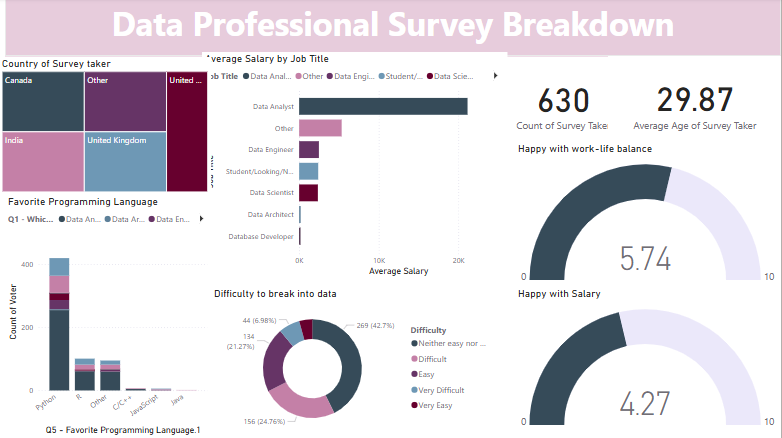

Layout of this report page (visuals, bound fields, positions):
{"tool":"powerbi","page":{"name":"Dashboard","canvas":[1280,720],"ordinal":0},"visuals":[{"type":"textbox","box":[10.1,0,1269.9,95.7],"z":0},{"type":"card","fields":{"Values":["CountNonNull(Data Professional Survey.Unique ID)"]},"box":[801.7,96.6,243.1,148.3],"z":1000},{"type":"card","fields":{"Values":["Avg(Data Professional Survey.Q10 - Current Age)"]},"box":[996.1,95.7,283.9,149.5],"z":2000},{"type":"barChart","title":" Average Salary by Job Title","fields":{"Category":["Data Professional Survey.Q1 - Which Title Best Fits your Current Role?.1"],"Y":["Sum(Data Professional Survey.Average Salary)"],"Series":["Data Professional Survey.Q1 - Which Title Best Fits your Current Role?.1"]},"box":[332.8,87.9,500,372.4],"z":3000},{"type":"columnChart","title":"Favorite Programming Language","fields":{"Category":["Data Professional Survey.Q5 - Favorite Programming Language.1"],"Y":["CountNonNull(Data Professional Survey.Unique ID)"],"Series":["Data Professional Survey.Q1 - Which Title Best Fits your Current Role?.1"]},"box":[10.3,322.4,336.2,398.3],"z":4000},{"type":"treemap","title":"Country of Survey taker","fields":{"Group":["Data Professional Survey.Q11 - Which Country do you live in?.1"],"Values":["Count(Data Professional Survey.Q11 - Which Country do you live in?.1)"]},"box":[0,96.6,346.6,225.9],"z":5000},{"type":"gauge","title":"Happy with work-life balance ","fields":{"MinValue":["Min(Data Professional Survey.Q6 - How Happy are you in your Current Position with the following? (Work/Life Balance))"],"MaxValue":["Max(Data Professional Survey.Q6 - How Happy are you in your Current Position with the following? (Work/Life Balance))"],"Y":["Avg(Data Professional Survey.Q6 - How Happy are you in your Current Position with the following? (Work/Life Balance))"]},"box":[844.8,236.2,434.5,248.3],"z":6000},{"type":"gauge","title":"Happy with Salary","fields":{"Y":["Avg(Data Professional Survey.Q6 - How Happy are you in your Current Position with the following? (Salary))"],"MinValue":["Min(Data Professional Survey.Q6 - How Happy are you in your Current Position with the following? (Salary))1"],"MaxValue":["Max(Data Professional Survey.Q6 - How Happy are you in your Current Position with the following? (Salary))2"]},"box":[844.8,472.4,434.5,248.3],"z":7000},{"type":"donutChart","title":"Difficulty to break into data","fields":{"Category":["Data Professional Survey.Q7 - How difficult was it for you to break into Data?"],"Y":["CountNonNull(Data Professional Survey.Q7 - How difficult was it for you to break into Data?)"]},"box":[346.6,472.4,470.7,248.3],"z":8000}]}

Visuals, with their boxes in screenshot pixels (x1, y1, x2, y2), scaled from the page's 1280x720 canvas onto the 782x438 screenshot:
textbox: bbox=[6, 0, 781, 58]
card - CountNonNull(Data Professional Survey.Unique ID): bbox=[490, 59, 638, 149]
card - Avg(Data Professional Survey.Q10 - Current Age): bbox=[609, 58, 781, 149]
" Average Salary by Job Title" barChart: bbox=[203, 53, 509, 280]
"Favorite Programming Language" columnChart: bbox=[6, 196, 212, 437]
"Country of Survey taker" treemap: bbox=[0, 59, 212, 196]
"Happy with work-life balance " gauge: bbox=[516, 144, 781, 295]
"Happy with Salary" gauge: bbox=[516, 287, 781, 437]
"Difficulty to break into data" donutChart: bbox=[212, 287, 499, 437]
